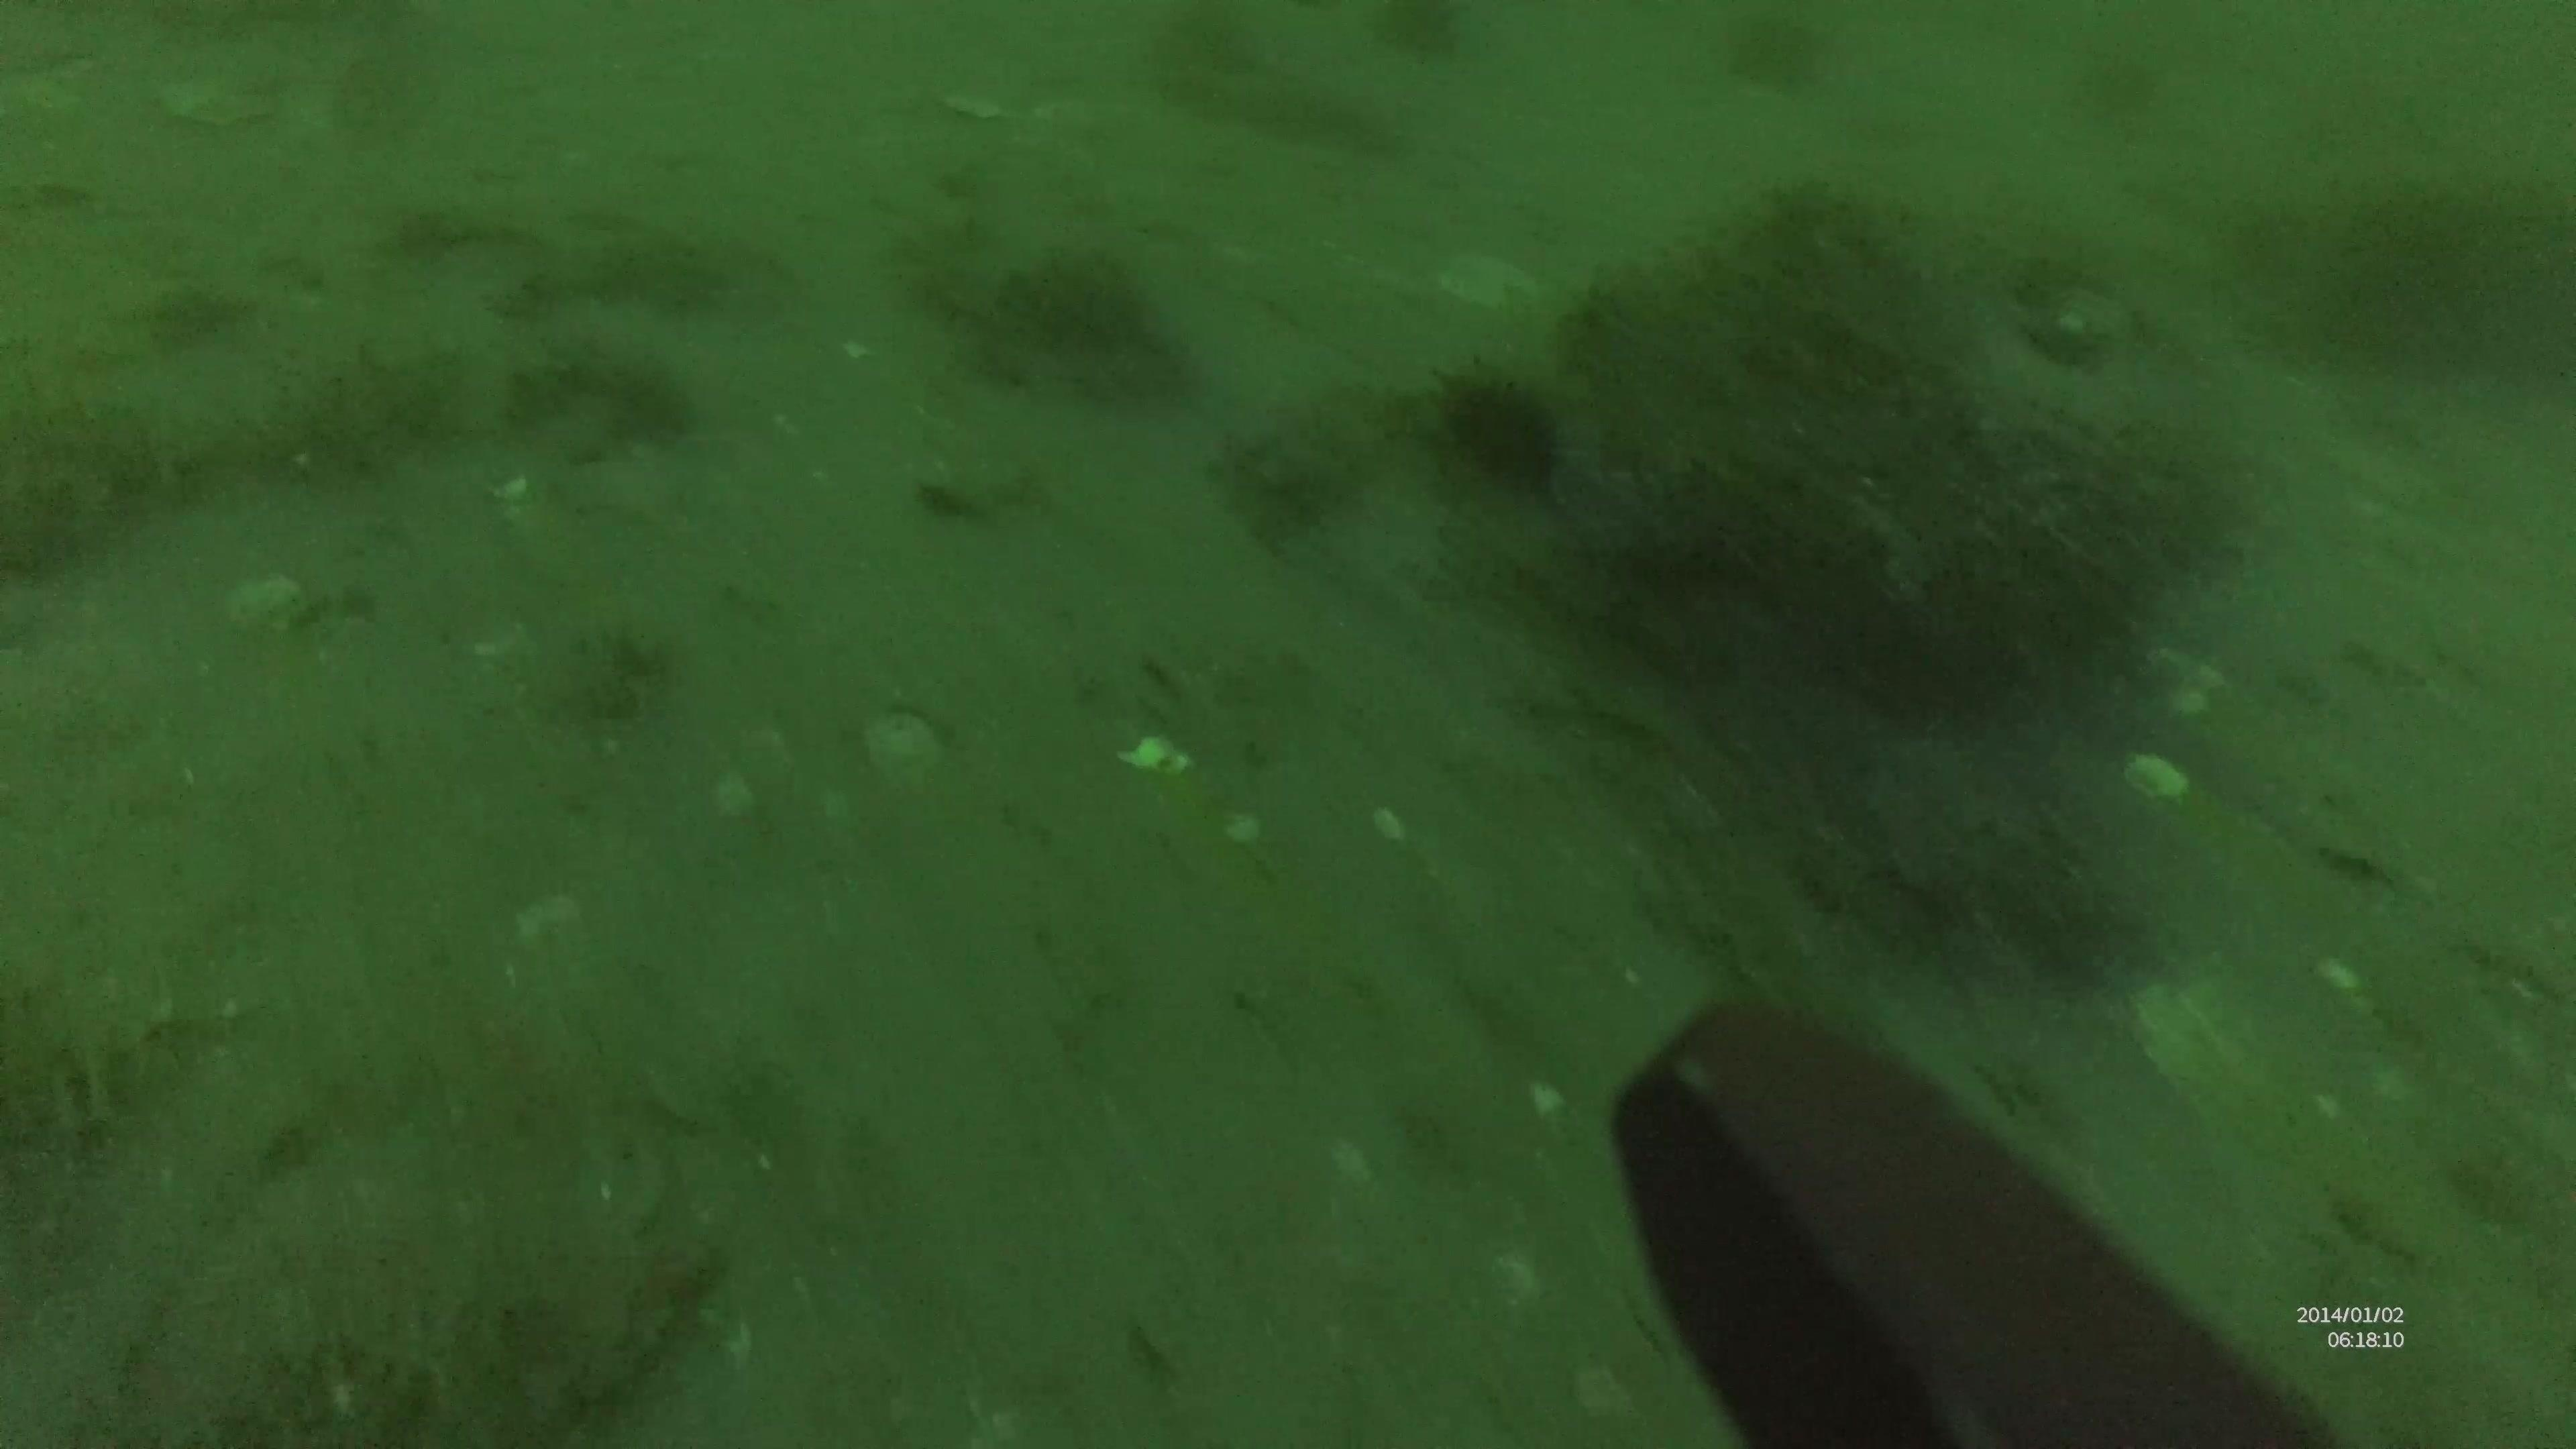echinus: (1426, 361, 1568, 497)
